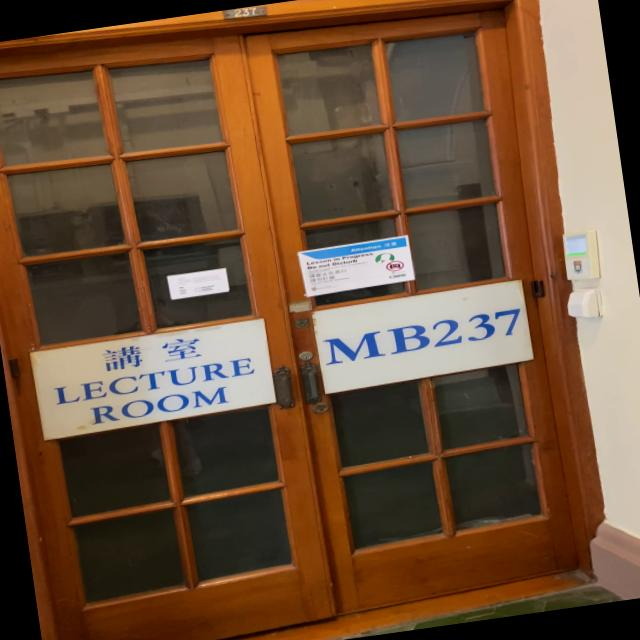room237: (222, 4, 271, 27)
room237Window: (322, 305, 528, 366)
